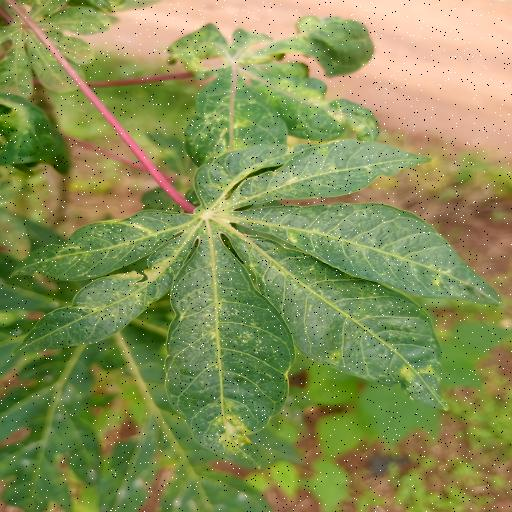Cassava_Mosaic: (21, 131, 512, 470)
